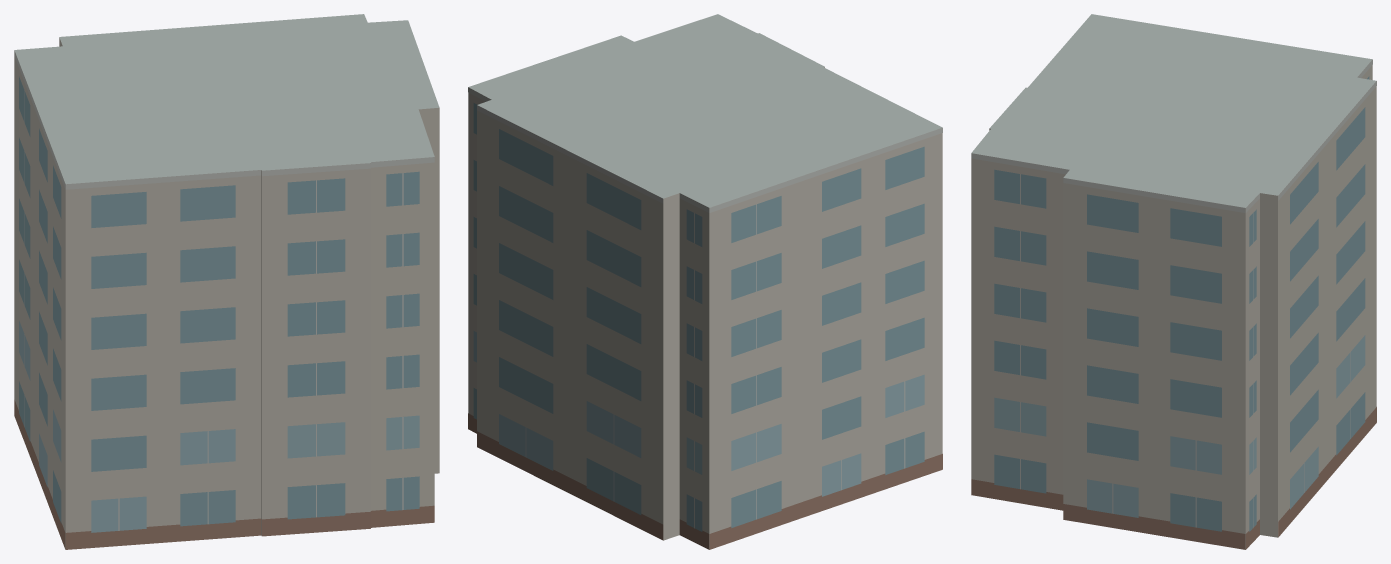
File: survey-upis-32510466.glb
3 renders of one model, left to right at view 1: azimuth 30°, elevation 25°; view 2: azimuth 150°, elevation 25°; view 3: azimuth 270°, elevation 25°, orthographic. The views are drawn at different scales.
Parts seen in each view (by area): view 1: survey-upis-32510466.tmp; view 2: survey-upis-32510466.tmp; view 3: survey-upis-32510466.tmp.
Part boxes in pixels (bbox=[...]): survey-upis-32510466.tmp: bbox=[14, 14, 439, 549]; survey-upis-32510466.tmp: bbox=[468, 14, 942, 549]; survey-upis-32510466.tmp: bbox=[971, 14, 1376, 549].
Size of the model in its own units: 19.48 by 16 by 17.21.
